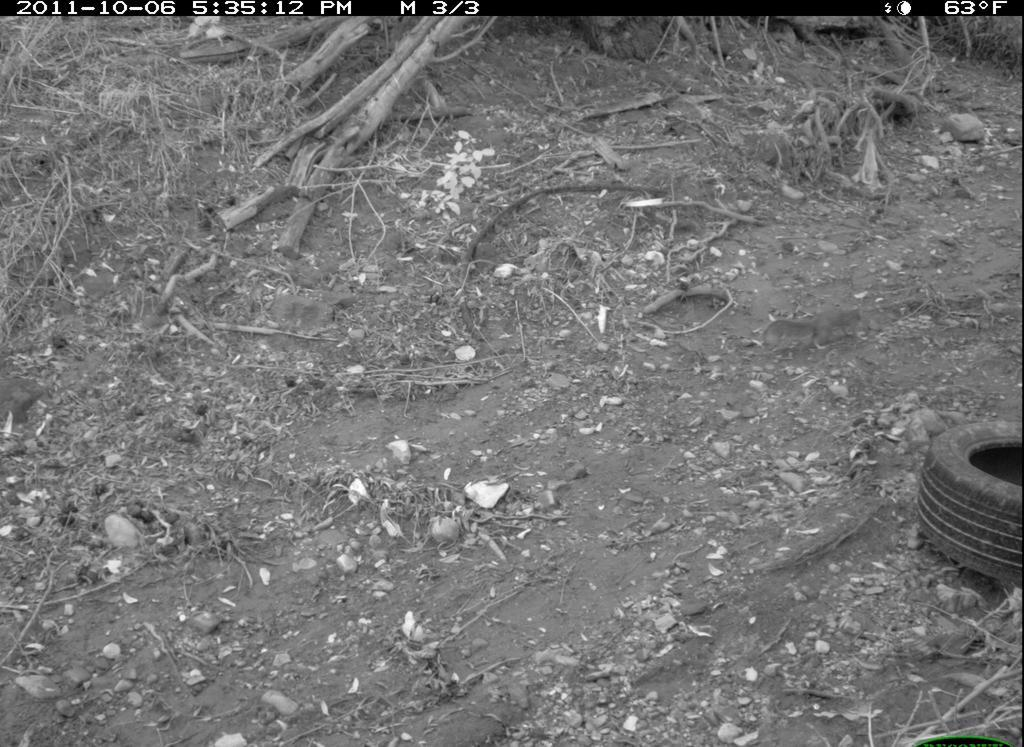squirrel: (764, 305, 869, 353)
